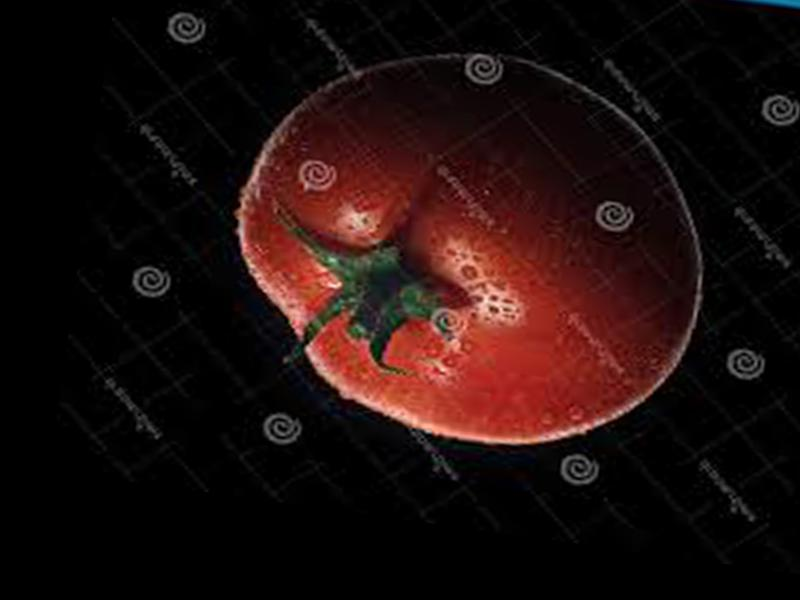Tomato: (210, 26, 731, 470)
